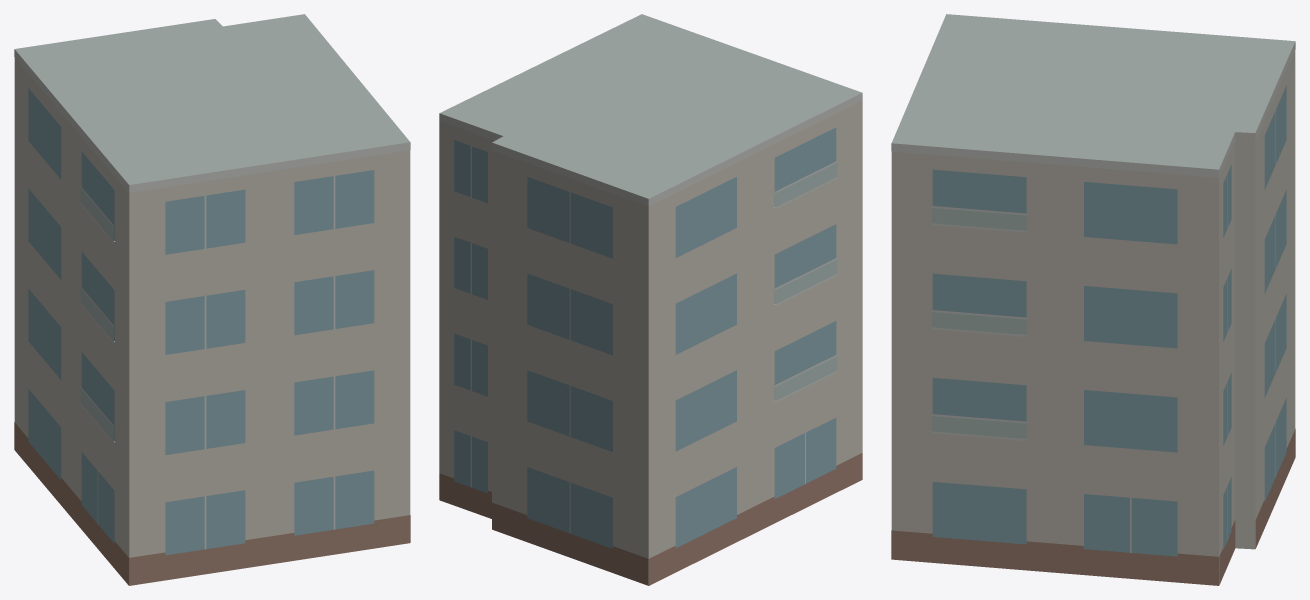
Rendered from survey-upis-32700942.glb.
The picture shows the model from 3 angles, left to right: view 1: azimuth 30°, elevation 25°; view 2: azimuth 150°, elevation 25°; view 3: azimuth 270°, elevation 25°; orthographic projection. The views are drawn at different scales.
Visible parts, largest first — view 1: survey-upis-32700942.tmp; view 2: survey-upis-32700942.tmp; view 3: survey-upis-32700942.tmp.
Boxes of the visible parts, <box> form: survey-upis-32700942.tmp: <box>14,14,410,585</box>; survey-upis-32700942.tmp: <box>439,14,862,585</box>; survey-upis-32700942.tmp: <box>891,14,1295,585</box>.
Size of the model in its own units: 10.03 by 12.5 by 11.01.
